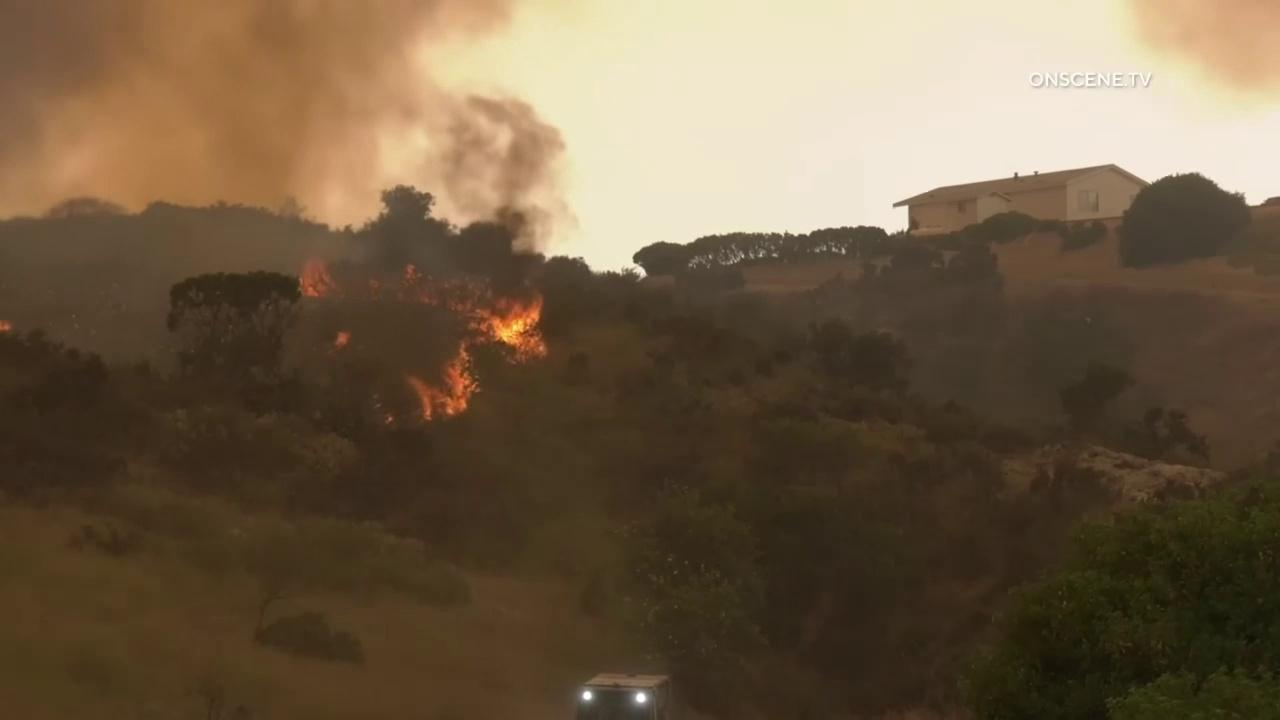fire: (401, 262, 550, 421), (299, 257, 337, 298), (334, 331, 350, 348), (0, 319, 13, 332), (384, 417, 393, 425)
smoke: (0, 0, 571, 444), (1124, 0, 1280, 103)
